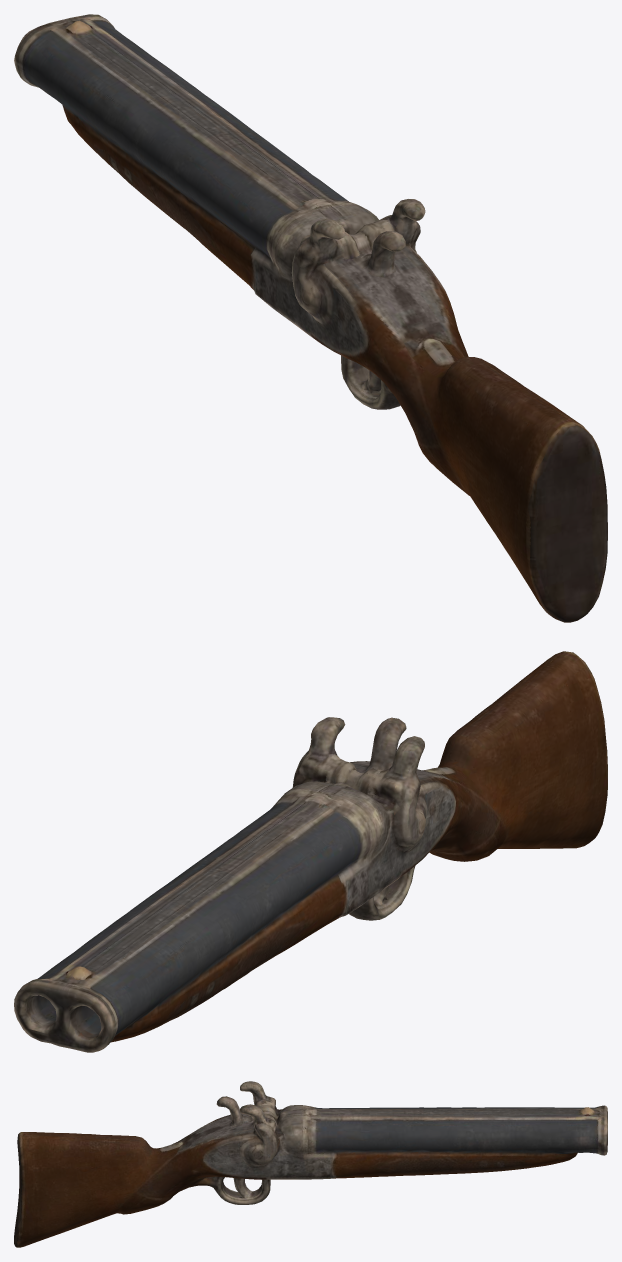
File: coach-gun.glb
3 views of the same model, one above another, from view 1: azimuth 30°, elevation 25°; view 2: azimuth 150°, elevation 25°; view 3: azimuth 270°, elevation 25° (orthographic). The views are drawn at different scales.
Parts seen in each view (by area): view 1: Mesh_0; view 2: Mesh_0; view 3: Mesh_0.
Boxes of the visible parts, <box> form: Mesh_0: <box>14,14,607,622</box>; Mesh_0: <box>14,651,607,1052</box>; Mesh_0: <box>14,1081,607,1247</box>.
Size of the model in its own units: 0.0917 by 0.1986 by 0.7.
Materials: 1 (1 with a texture image).
